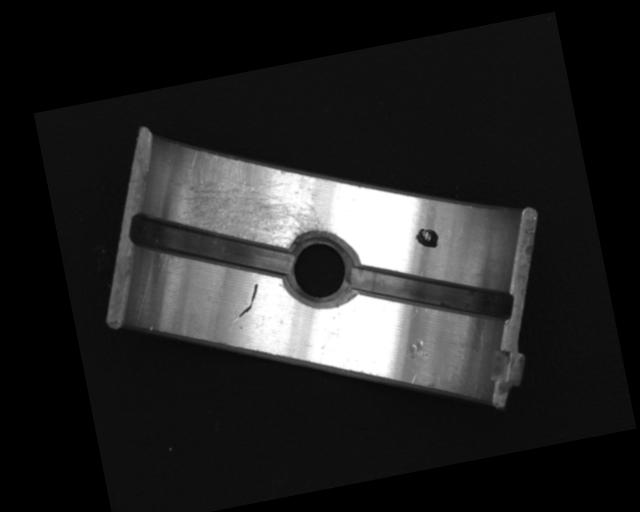blot: (413, 224, 441, 251)
bruise: (403, 336, 431, 364)
gap: (126, 186, 298, 304), (350, 238, 515, 344)
hole: (278, 226, 362, 311)
nick: (231, 281, 263, 318)
scratch: (169, 128, 331, 270)
